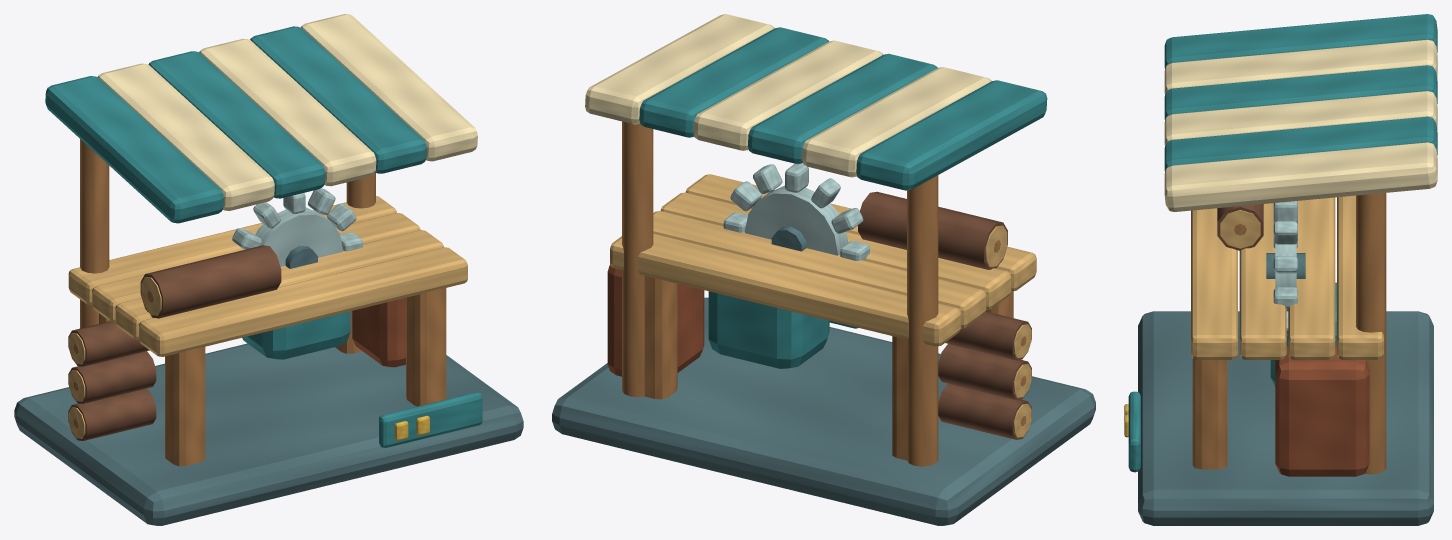
File: sawmill-tier-2.glb
3 renders of one model, left to right at view 1: azimuth 30°, elevation 25°; view 2: azimuth 150°, elevation 25°; view 3: azimuth 270°, elevation 25°, orthographic. The views are drawn at different scales.
Visible parts, largest first — view 1: sawmill-tier-2-body, saw-blade; view 2: sawmill-tier-2-body, saw-blade; view 3: sawmill-tier-2-body, saw-blade.
Boxes of the visible parts, x1,y1,x2,y2 form: sawmill-tier-2-body: (14, 14, 523, 525); saw-blade: (232, 188, 362, 268); sawmill-tier-2-body: (552, 14, 1095, 525); saw-blade: (723, 163, 869, 260); sawmill-tier-2-body: (1124, 14, 1437, 525); saw-blade: (1266, 201, 1305, 333).
Bounding box in the file's own units: 2.99 × 2.53 × 2.06.
1 material, 1 textured.
